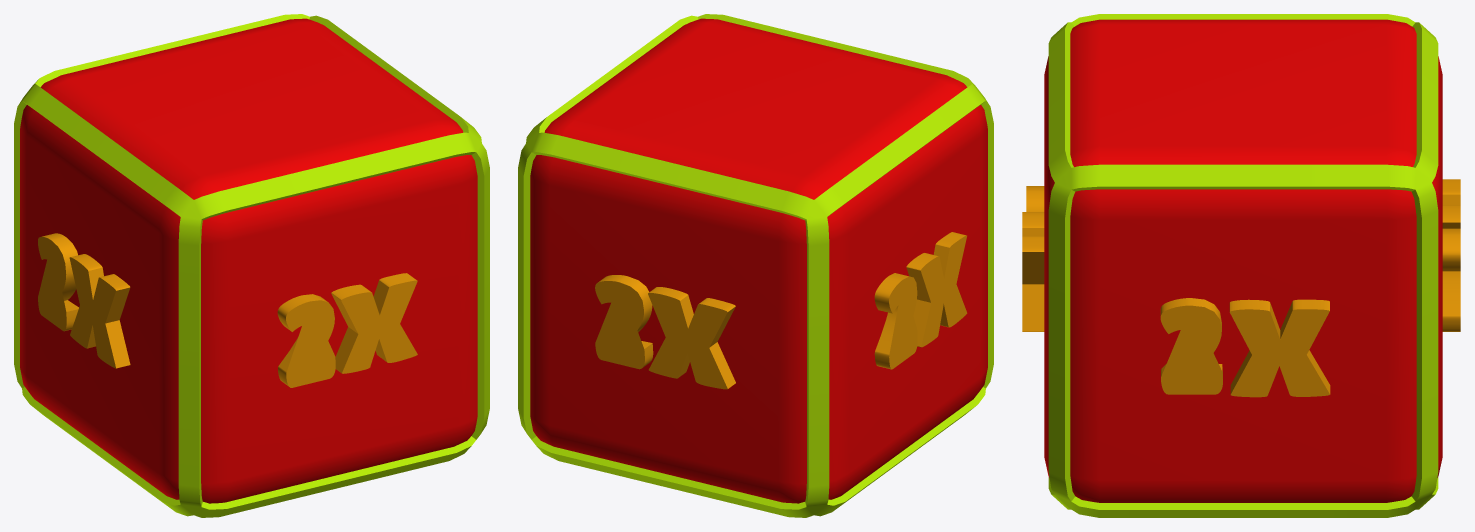
3 views of the same model, side by side, from view 1: azimuth 30°, elevation 25°; view 2: azimuth 150°, elevation 25°; view 3: azimuth 270°, elevation 25° (orthographic). The views are drawn at different scales.
Visible parts, largest first — view 1: Cube_x, x2; view 2: Cube_x, x2; view 3: Cube_x, x2.
Boxes of the visible parts, x1,y1,x2,y2 form: Cube_x: (14,14,489,517); x2: (38,233,417,387); Cube_x: (518,14,993,517); x2: (595,232,967,389); Cube_x: (1044,14,1442,517); x2: (1022,179,1460,397).
Bounding box in the file's own units: 0.7759 × 0.704 × 0.7746.
